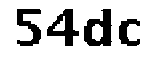4: (43, 6, 80, 51)
5: (12, 5, 44, 49)
c: (118, 18, 144, 47)
d: (82, 7, 115, 53)
